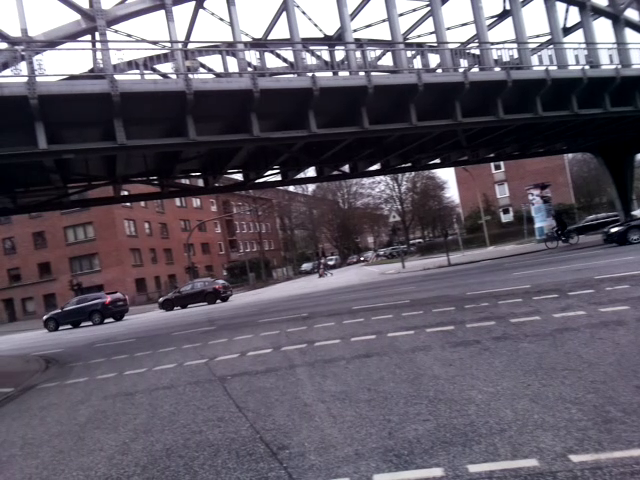car: (41, 292, 133, 324), (161, 275, 236, 307)
